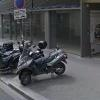Motorcycle: (4, 36, 72, 89)
